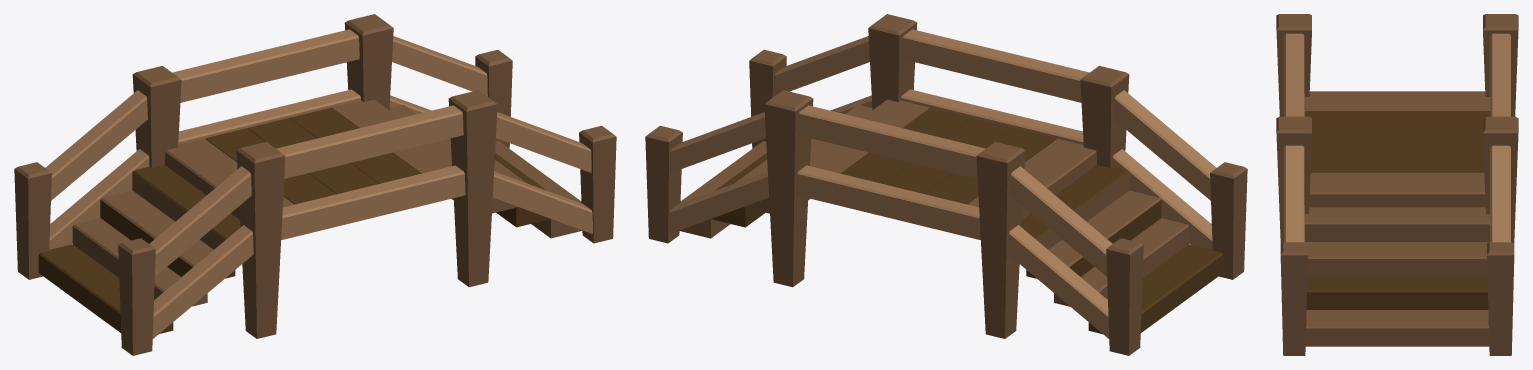
Rendered from Bridge_02.glb.
3 views of the same model, side by side, from view 1: azimuth 30°, elevation 25°; view 2: azimuth 150°, elevation 25°; view 3: azimuth 270°, elevation 25° (orthographic).
Visible parts, largest first — view 1: Bridge_02; view 2: Bridge_02; view 3: Bridge_02.
Boxes of the visible parts, x1,y1,x2,y2 form: Bridge_02: (14,14,616,355); Bridge_02: (645,14,1247,355); Bridge_02: (1276,14,1518,355).
Size of what is drawn, in the model's own units: 5.54 by 1.99 by 2.41.
Materials: 1 (1 with a texture image).
